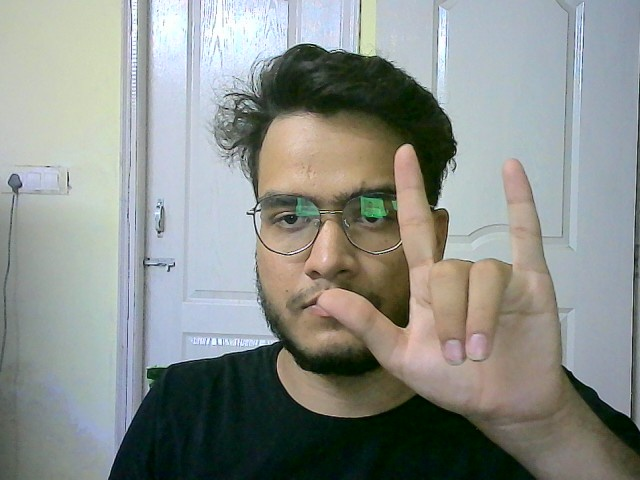I Love You: (317, 143, 577, 418)
